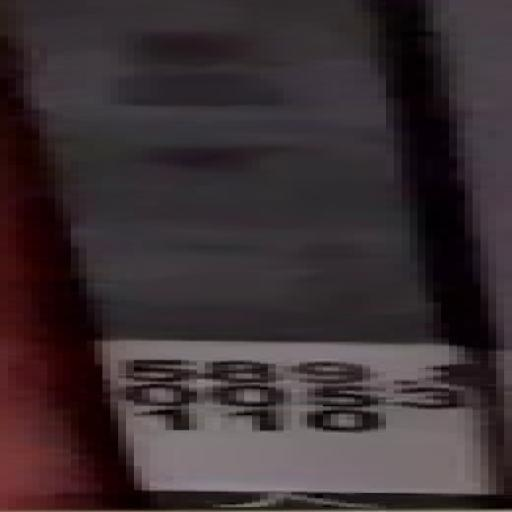book: (1, 1, 505, 512)
